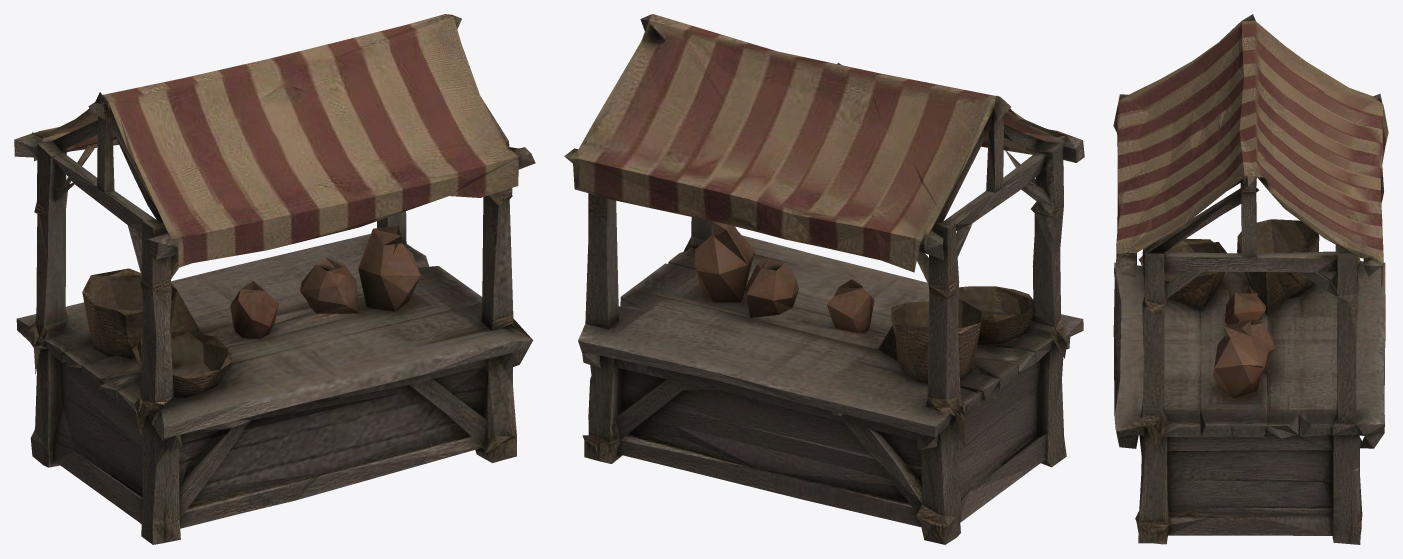
File: prp_stall_market_a_LOD0.glb
3 views of the same model, side by side, from view 1: azimuth 30°, elevation 25°; view 2: azimuth 150°, elevation 25°; view 3: azimuth 270°, elevation 25° (orthographic). The views are drawn at different scales.
Visible parts, largest first — view 1: tripo_mesh_202fdeec-29a6-487c-b399-68414773658c; view 2: tripo_mesh_202fdeec-29a6-487c-b399-68414773658c; view 3: tripo_mesh_202fdeec-29a6-487c-b399-68414773658c.
Part boxes in pixels (<box>): tripo_mesh_202fdeec-29a6-487c-b399-68414773658c: <box>14,14,535,544</box>; tripo_mesh_202fdeec-29a6-487c-b399-68414773658c: <box>564,14,1084,544</box>; tripo_mesh_202fdeec-29a6-487c-b399-68414773658c: <box>1113,14,1388,544</box>.
Size of the model in its own units: 2.55 by 2.6 by 1.74.
1 material, 1 textured.
